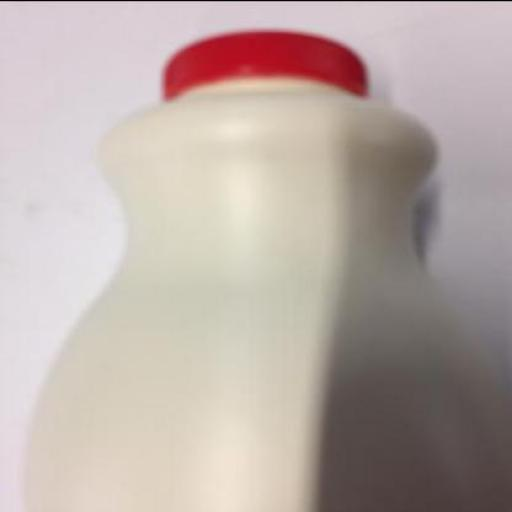plastic: (16, 29, 511, 511), (164, 30, 366, 100)
